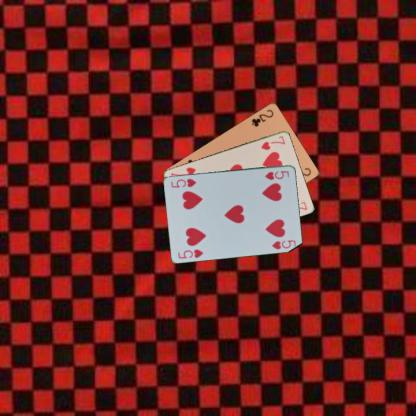2c: (249, 107, 275, 128)
5h: (176, 246, 204, 260), (262, 168, 290, 181)
7h: (258, 133, 286, 151)
